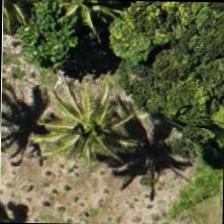Kelapa_Sawit: (62, 82, 154, 174), (37, 0, 129, 58)
